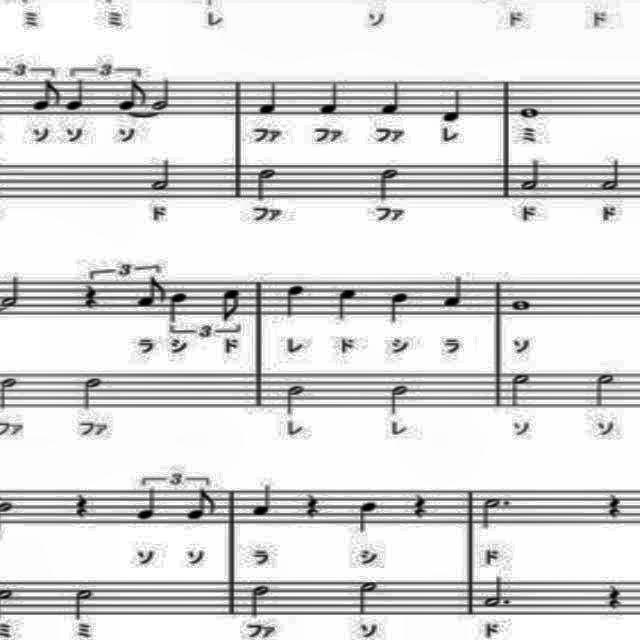Eighth-note: (132, 272, 168, 312), (113, 76, 151, 112), (182, 484, 216, 524), (32, 75, 64, 115), (220, 284, 244, 324)
Full-note: (504, 292, 540, 316), (516, 98, 550, 122)
Half-dot: (474, 494, 518, 534), (481, 570, 515, 614)
Half-note: (382, 378, 418, 422), (512, 153, 548, 194), (593, 152, 625, 195), (0, 269, 28, 318), (248, 163, 280, 205), (505, 368, 537, 410), (375, 161, 405, 205), (77, 370, 107, 414), (591, 368, 619, 414), (282, 378, 310, 422), (70, 584, 98, 624), (150, 154, 174, 198), (357, 575, 381, 619), (246, 580, 274, 616), (150, 74, 174, 114), (0, 367, 18, 417)
Quarter-note: (435, 80, 473, 128), (276, 276, 312, 322), (329, 286, 366, 322), (440, 267, 466, 317), (374, 74, 402, 120), (164, 288, 196, 328), (351, 496, 382, 536), (134, 482, 162, 526), (317, 78, 347, 119), (251, 482, 277, 526), (62, 77, 92, 115), (254, 79, 284, 117), (385, 286, 411, 328)
Quarter-rest: (64, 484, 96, 524), (407, 484, 437, 524), (75, 280, 108, 312), (302, 484, 328, 520), (600, 576, 624, 612), (602, 488, 626, 520)
